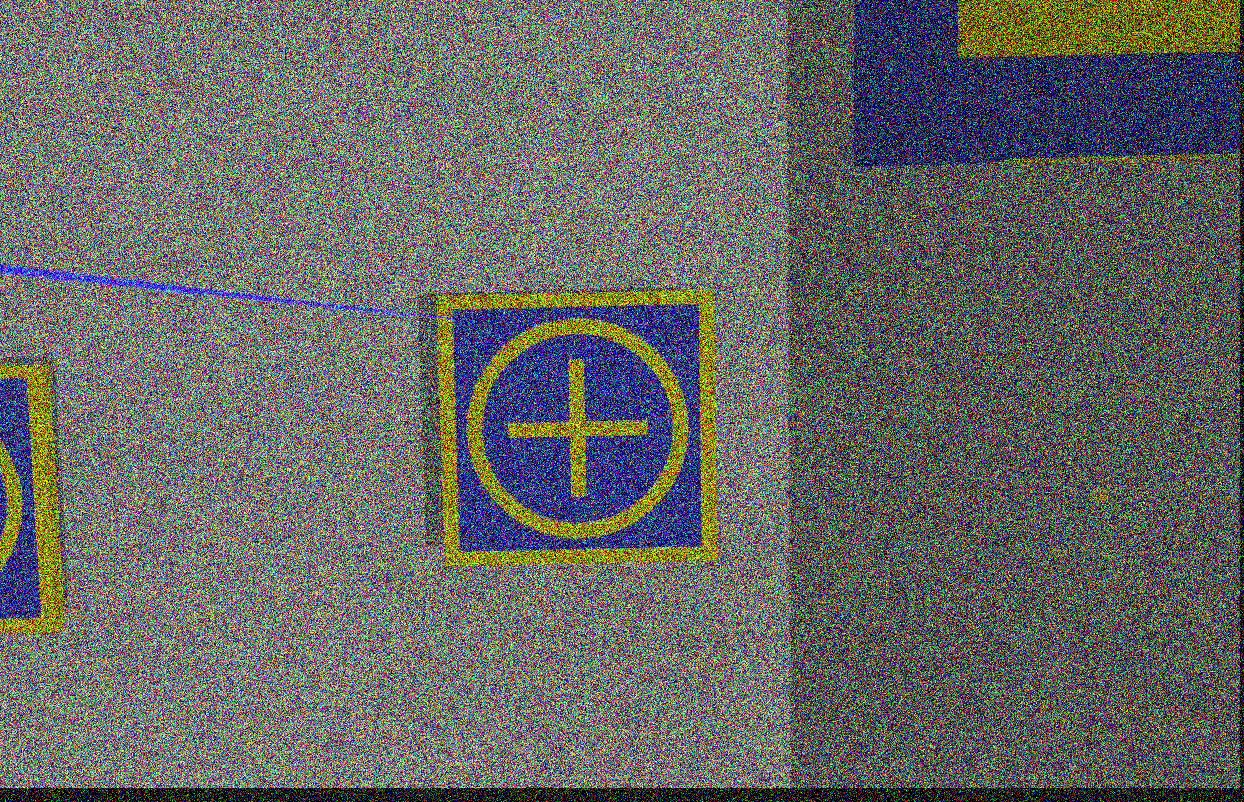large_base: (854, 1, 1242, 167)
small_base: (433, 288, 722, 566), (0, 355, 68, 639)
